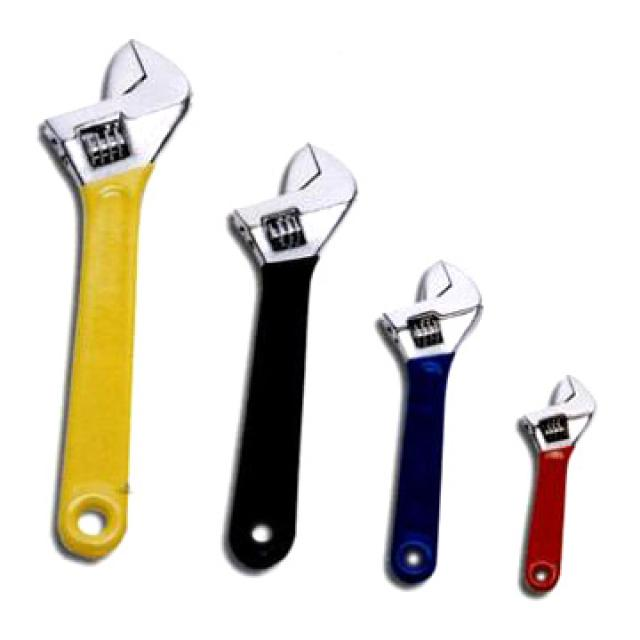wrench: (29, 34, 194, 554), (203, 130, 353, 564), (346, 246, 506, 610), (510, 355, 608, 630)
